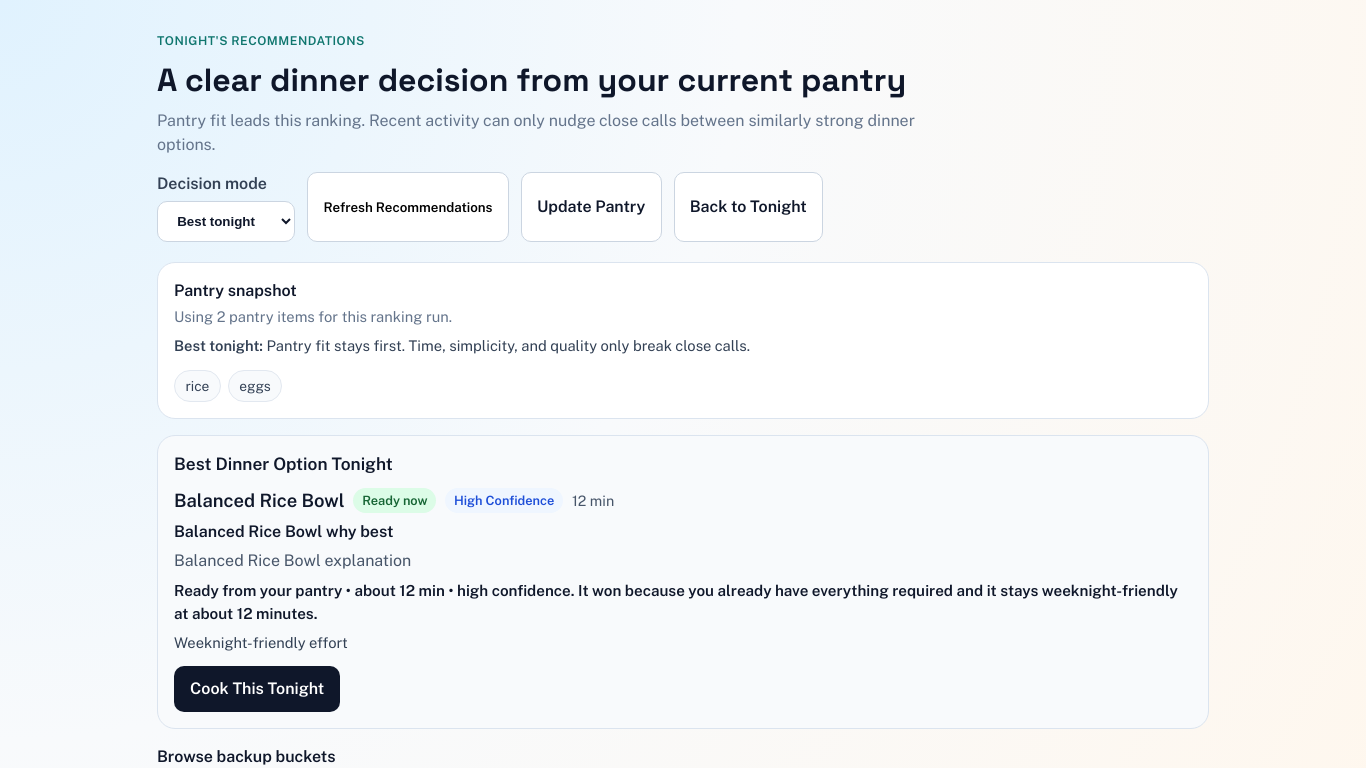
Recommendations page pantry refresh › refetches when the decision mode changes and shows the backend mode description
Step 1. Select "Lowest effort" in the dropdown labelled "Decision mode" → (226, 221), box top-left (157, 201), bottom-right (295, 242)
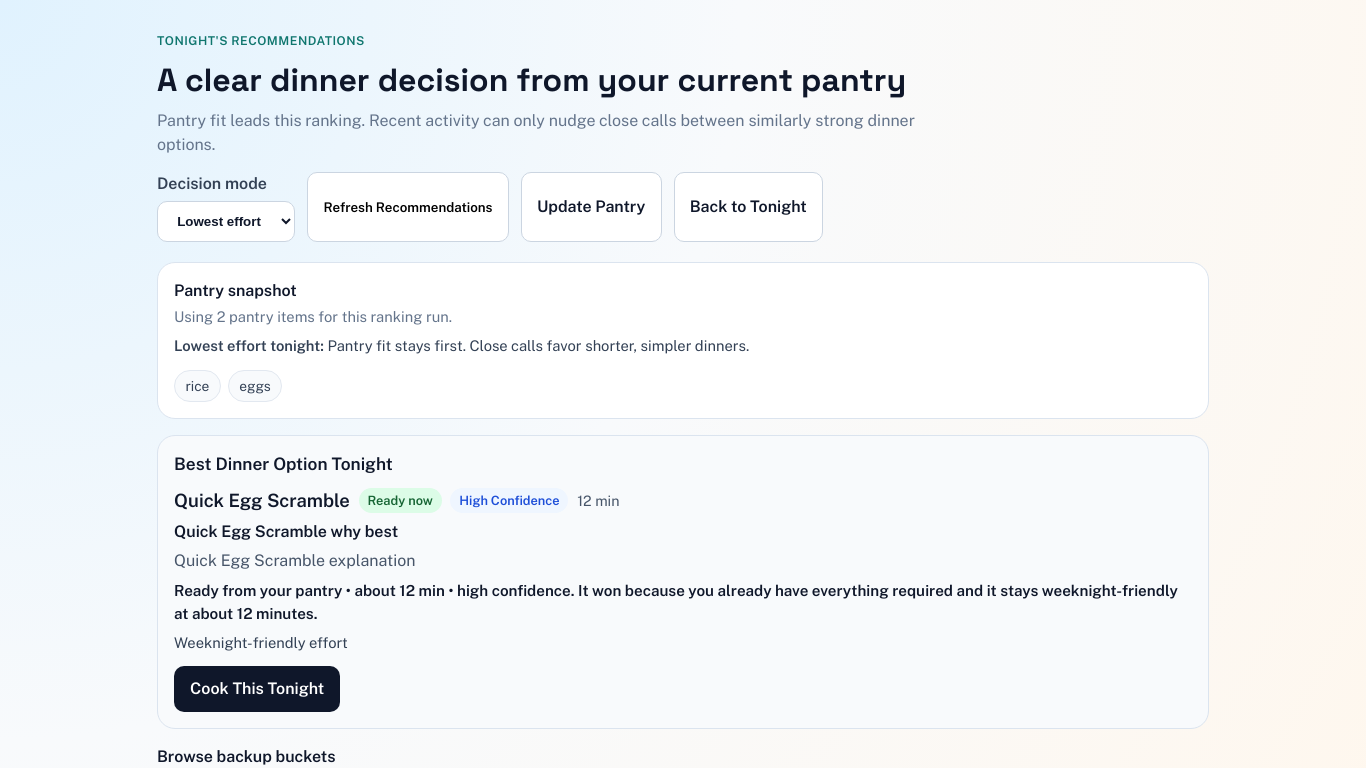
Expected: the text "Quick Egg Scramble" is shown, top-left (174, 487), bottom-right (350, 514)
Expected: the text "Lowest effort tonight:" is shown, top-left (174, 337), bottom-right (324, 354)
